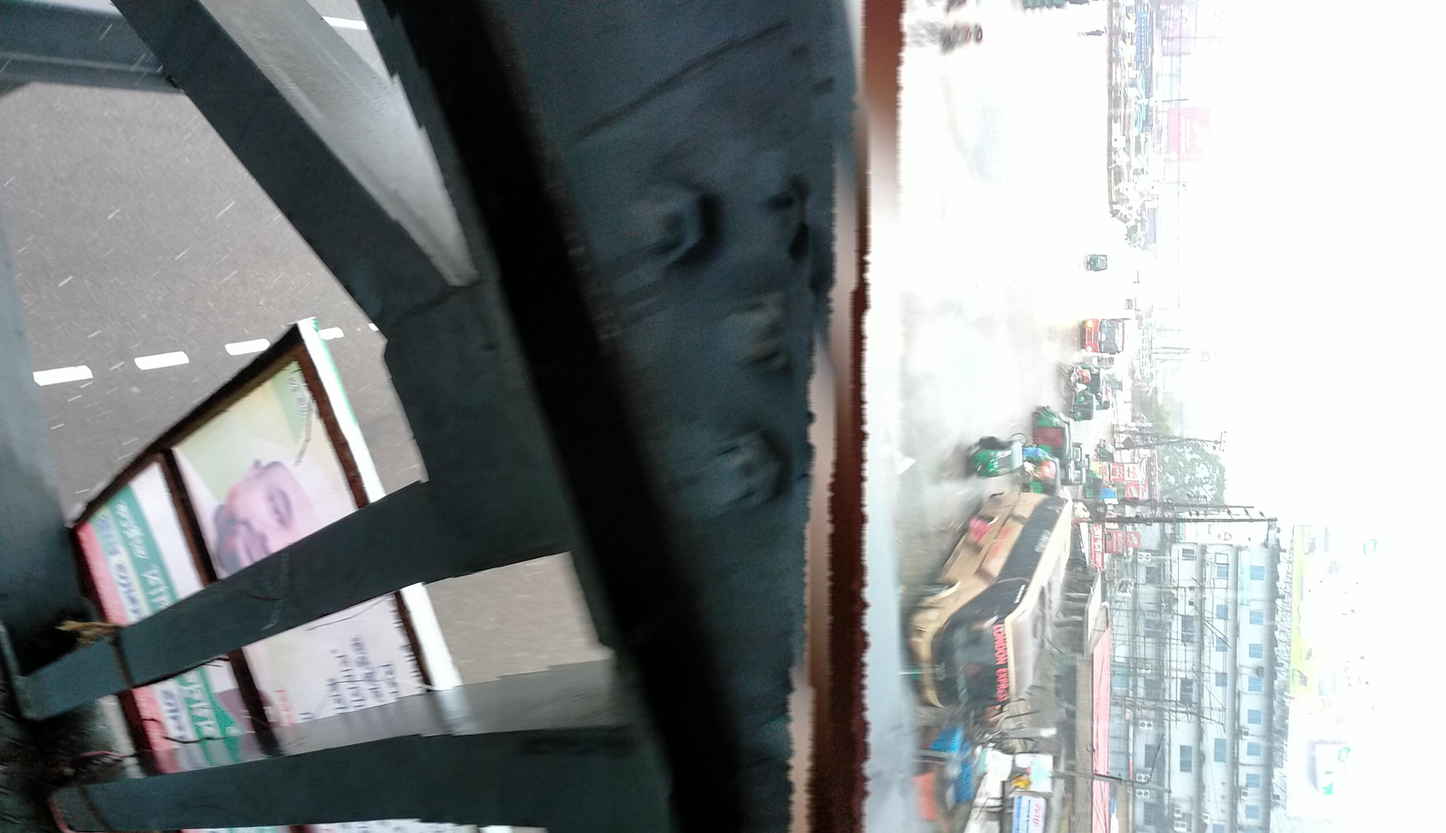Bus: (902, 474, 1084, 737)
